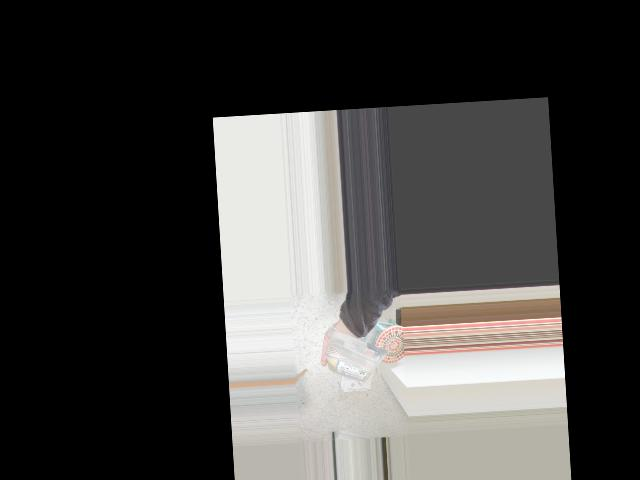cheese: (337, 333, 368, 398)
